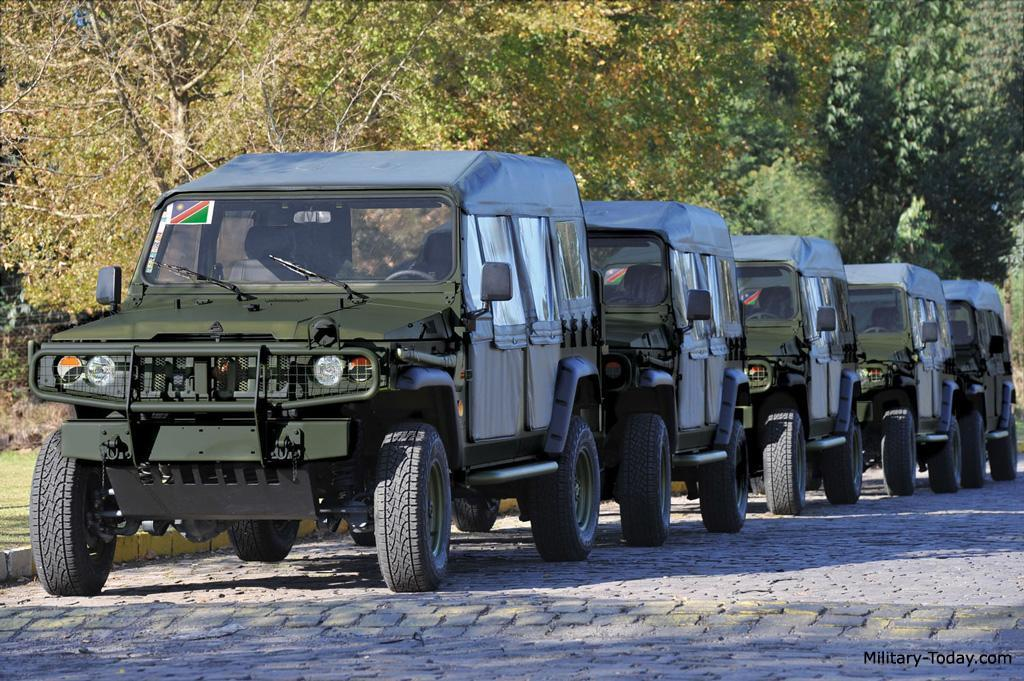armored_car: (28, 150, 609, 597), (581, 200, 751, 547), (736, 213, 869, 521), (839, 248, 962, 516), (938, 266, 1022, 503)
